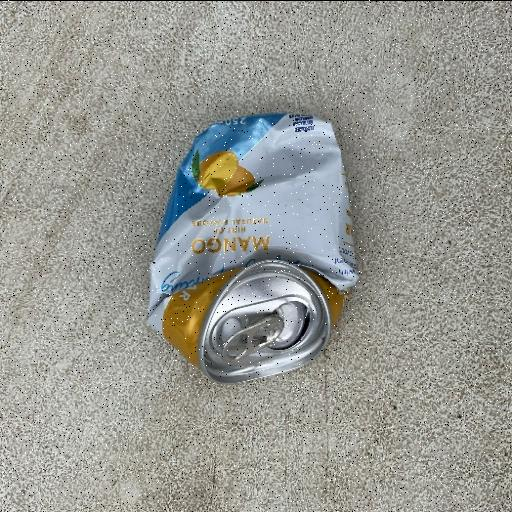Metal: (144, 109, 362, 385)
